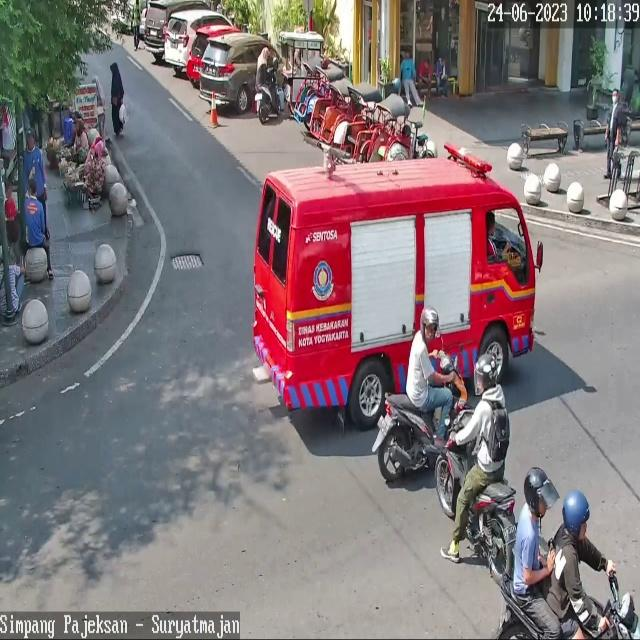bus: (434, 408, 516, 584), (378, 345, 468, 482), (491, 573, 640, 640)
car: (253, 158, 536, 432)
motorcycle: (201, 34, 281, 113), (164, 9, 233, 67), (144, 0, 212, 54), (186, 24, 242, 82)
